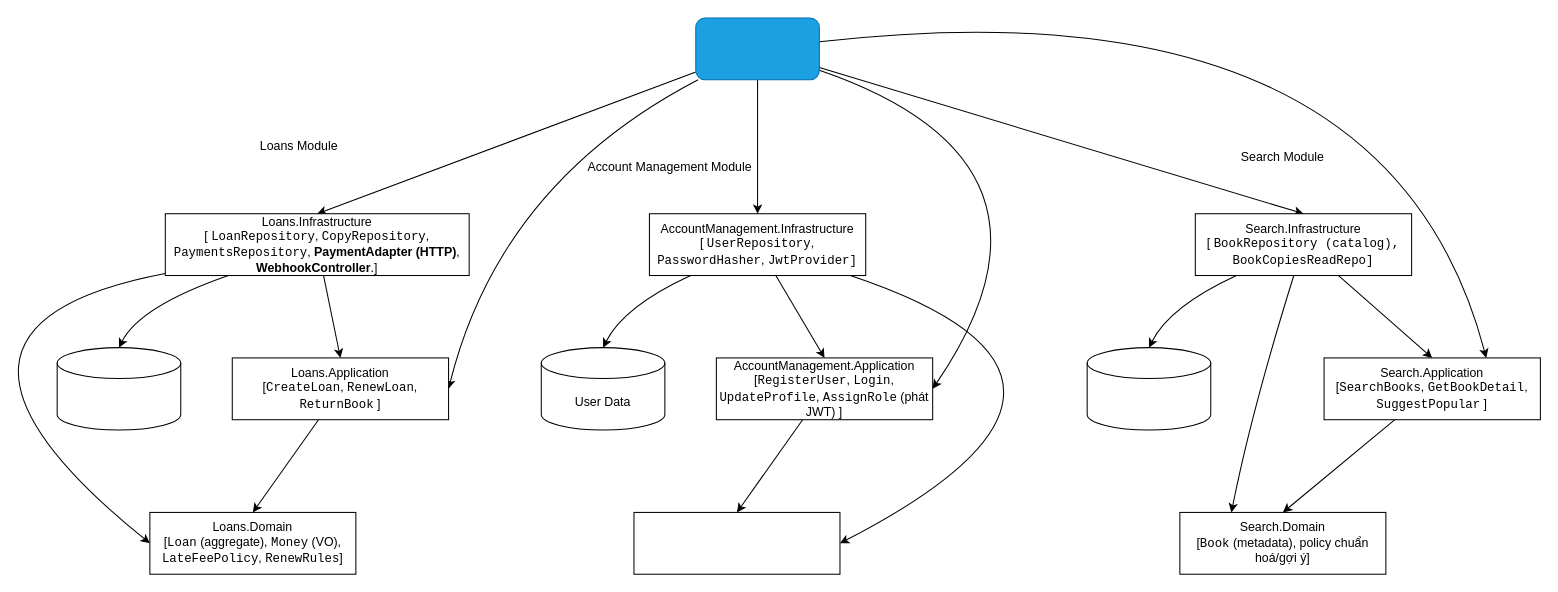
Image size: 1558x592. Some labels were removed from this diagram. Here are the shapes that lost their labels. From the top down, the centre of each, then its label:
At point (757, 48): "API Application [Backend]".
At point (118, 388): "Loans Data".
At point (1148, 388): "Book Data".
At point (736, 542): "AccountManagement.Domain [ User , Role , quy tắc email unique, mật khẩu]".
